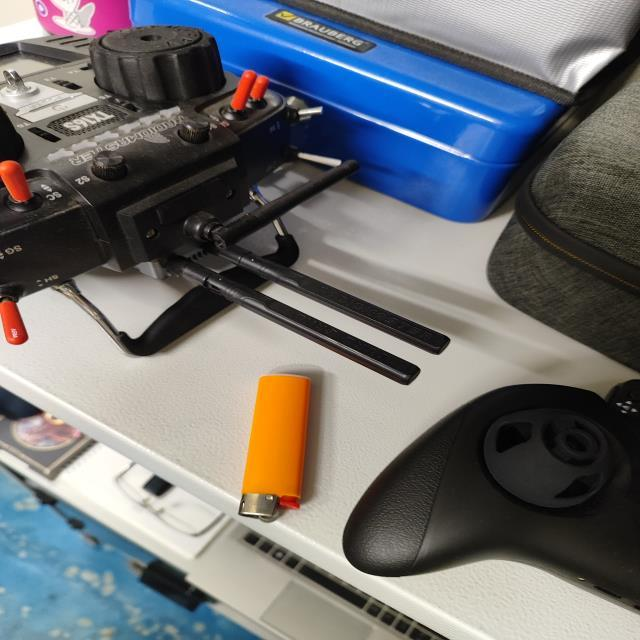lighter: (239, 374, 311, 521)
